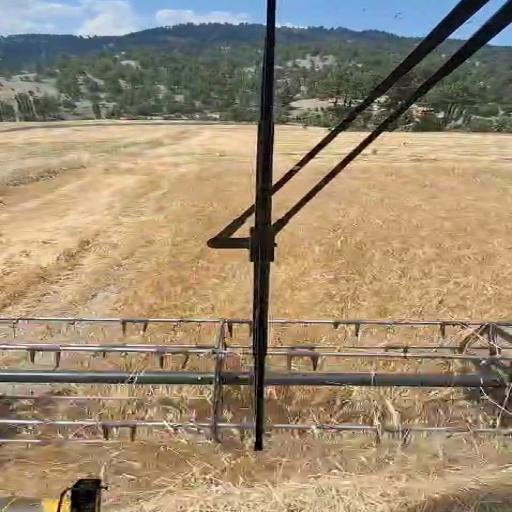bugday: (271, 133, 511, 319), (122, 239, 251, 317), (181, 161, 252, 238)
